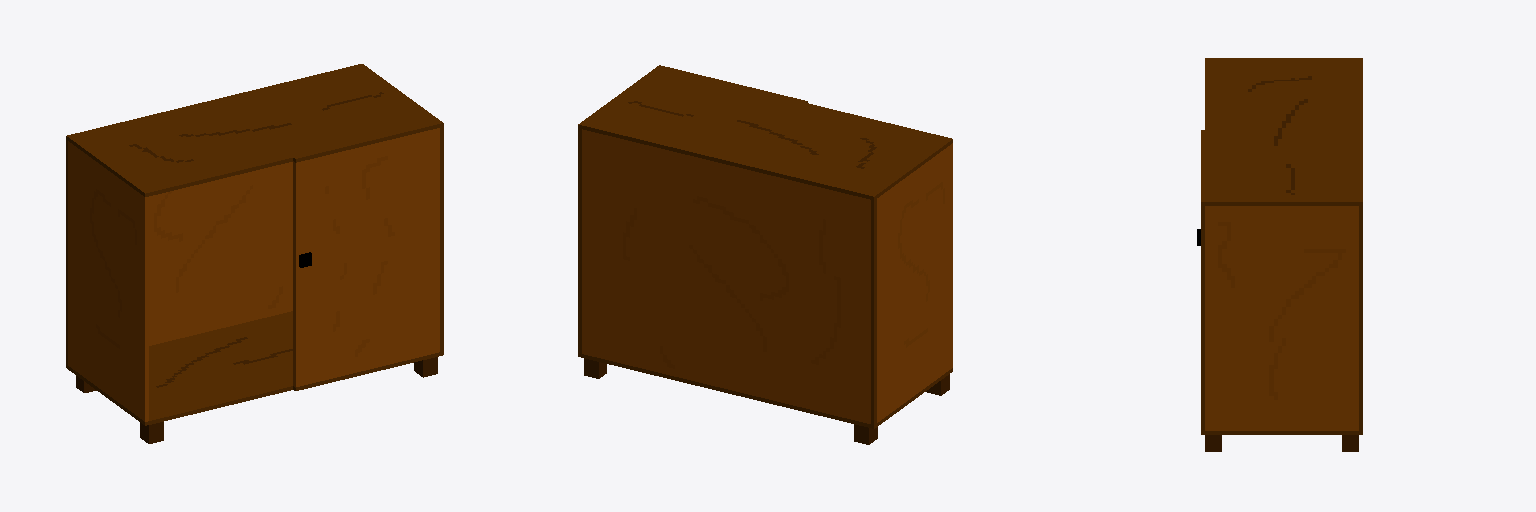
3 views of the same model, side by side, from view 1: azimuth 30°, elevation 25°; view 2: azimuth 150°, elevation 25°; view 3: azimuth 270°, elevation 25° (orthographic).
Visible parts, largest first — view 1: object 1; view 2: object 1; view 3: object 1.
Boxes of the visible parts, <box> form: object 1: <box>66,64,443,443</box>; object 1: <box>578,65,952,444</box>; object 1: <box>1197,58,1362,451</box>.
Bounding box in the file's own units: 8 × 6.5 × 3.9.
Materials: 1 (1 with a texture image).